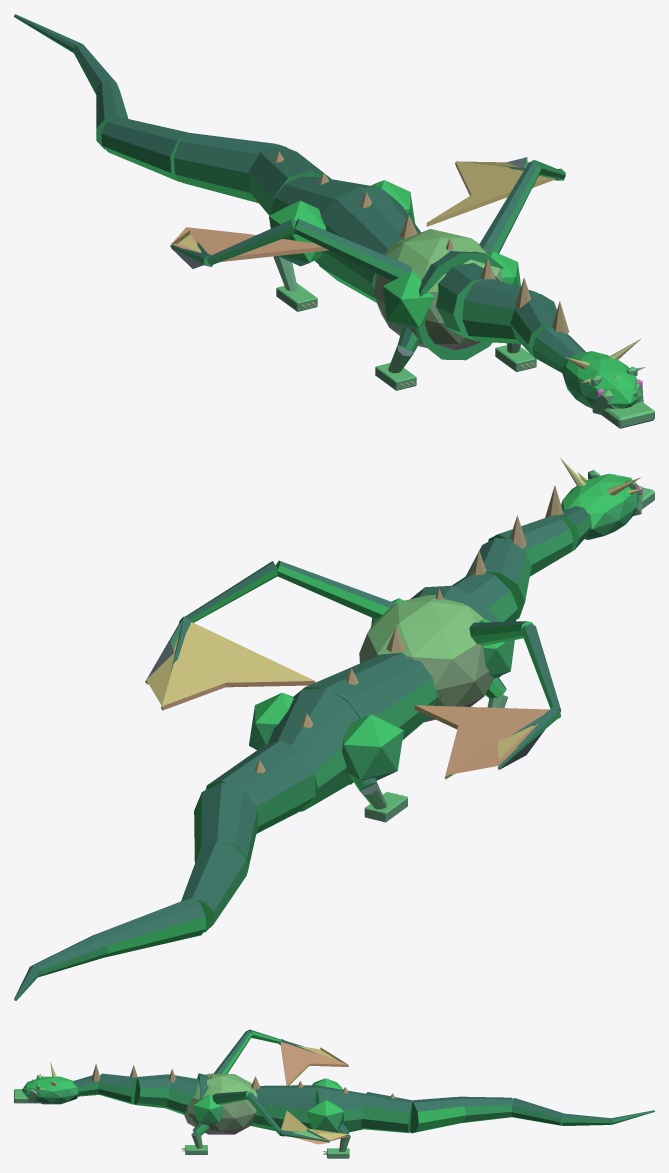
The model's file is creature_dragon_stalk_b_v01.glb.
3 renders of one model, top to bottom at view 1: azimuth 30°, elevation 25°; view 2: azimuth 150°, elevation 25°; view 3: azimuth 270°, elevation 25°, orthographic. The views are drawn at different scales.
Parts seen in each view (by area): view 1: GEO_creature_dragon_stalk_b_v01; view 2: GEO_creature_dragon_stalk_b_v01; view 3: GEO_creature_dragon_stalk_b_v01.
Boxes of the visible parts, bbox=[...] form: GEO_creature_dragon_stalk_b_v01: bbox=[14, 14, 654, 428]; GEO_creature_dragon_stalk_b_v01: bbox=[14, 458, 654, 1000]; GEO_creature_dragon_stalk_b_v01: bbox=[14, 1029, 654, 1158].
Size of the model in its own units: 13.79 by 5.63 by 39.99.
